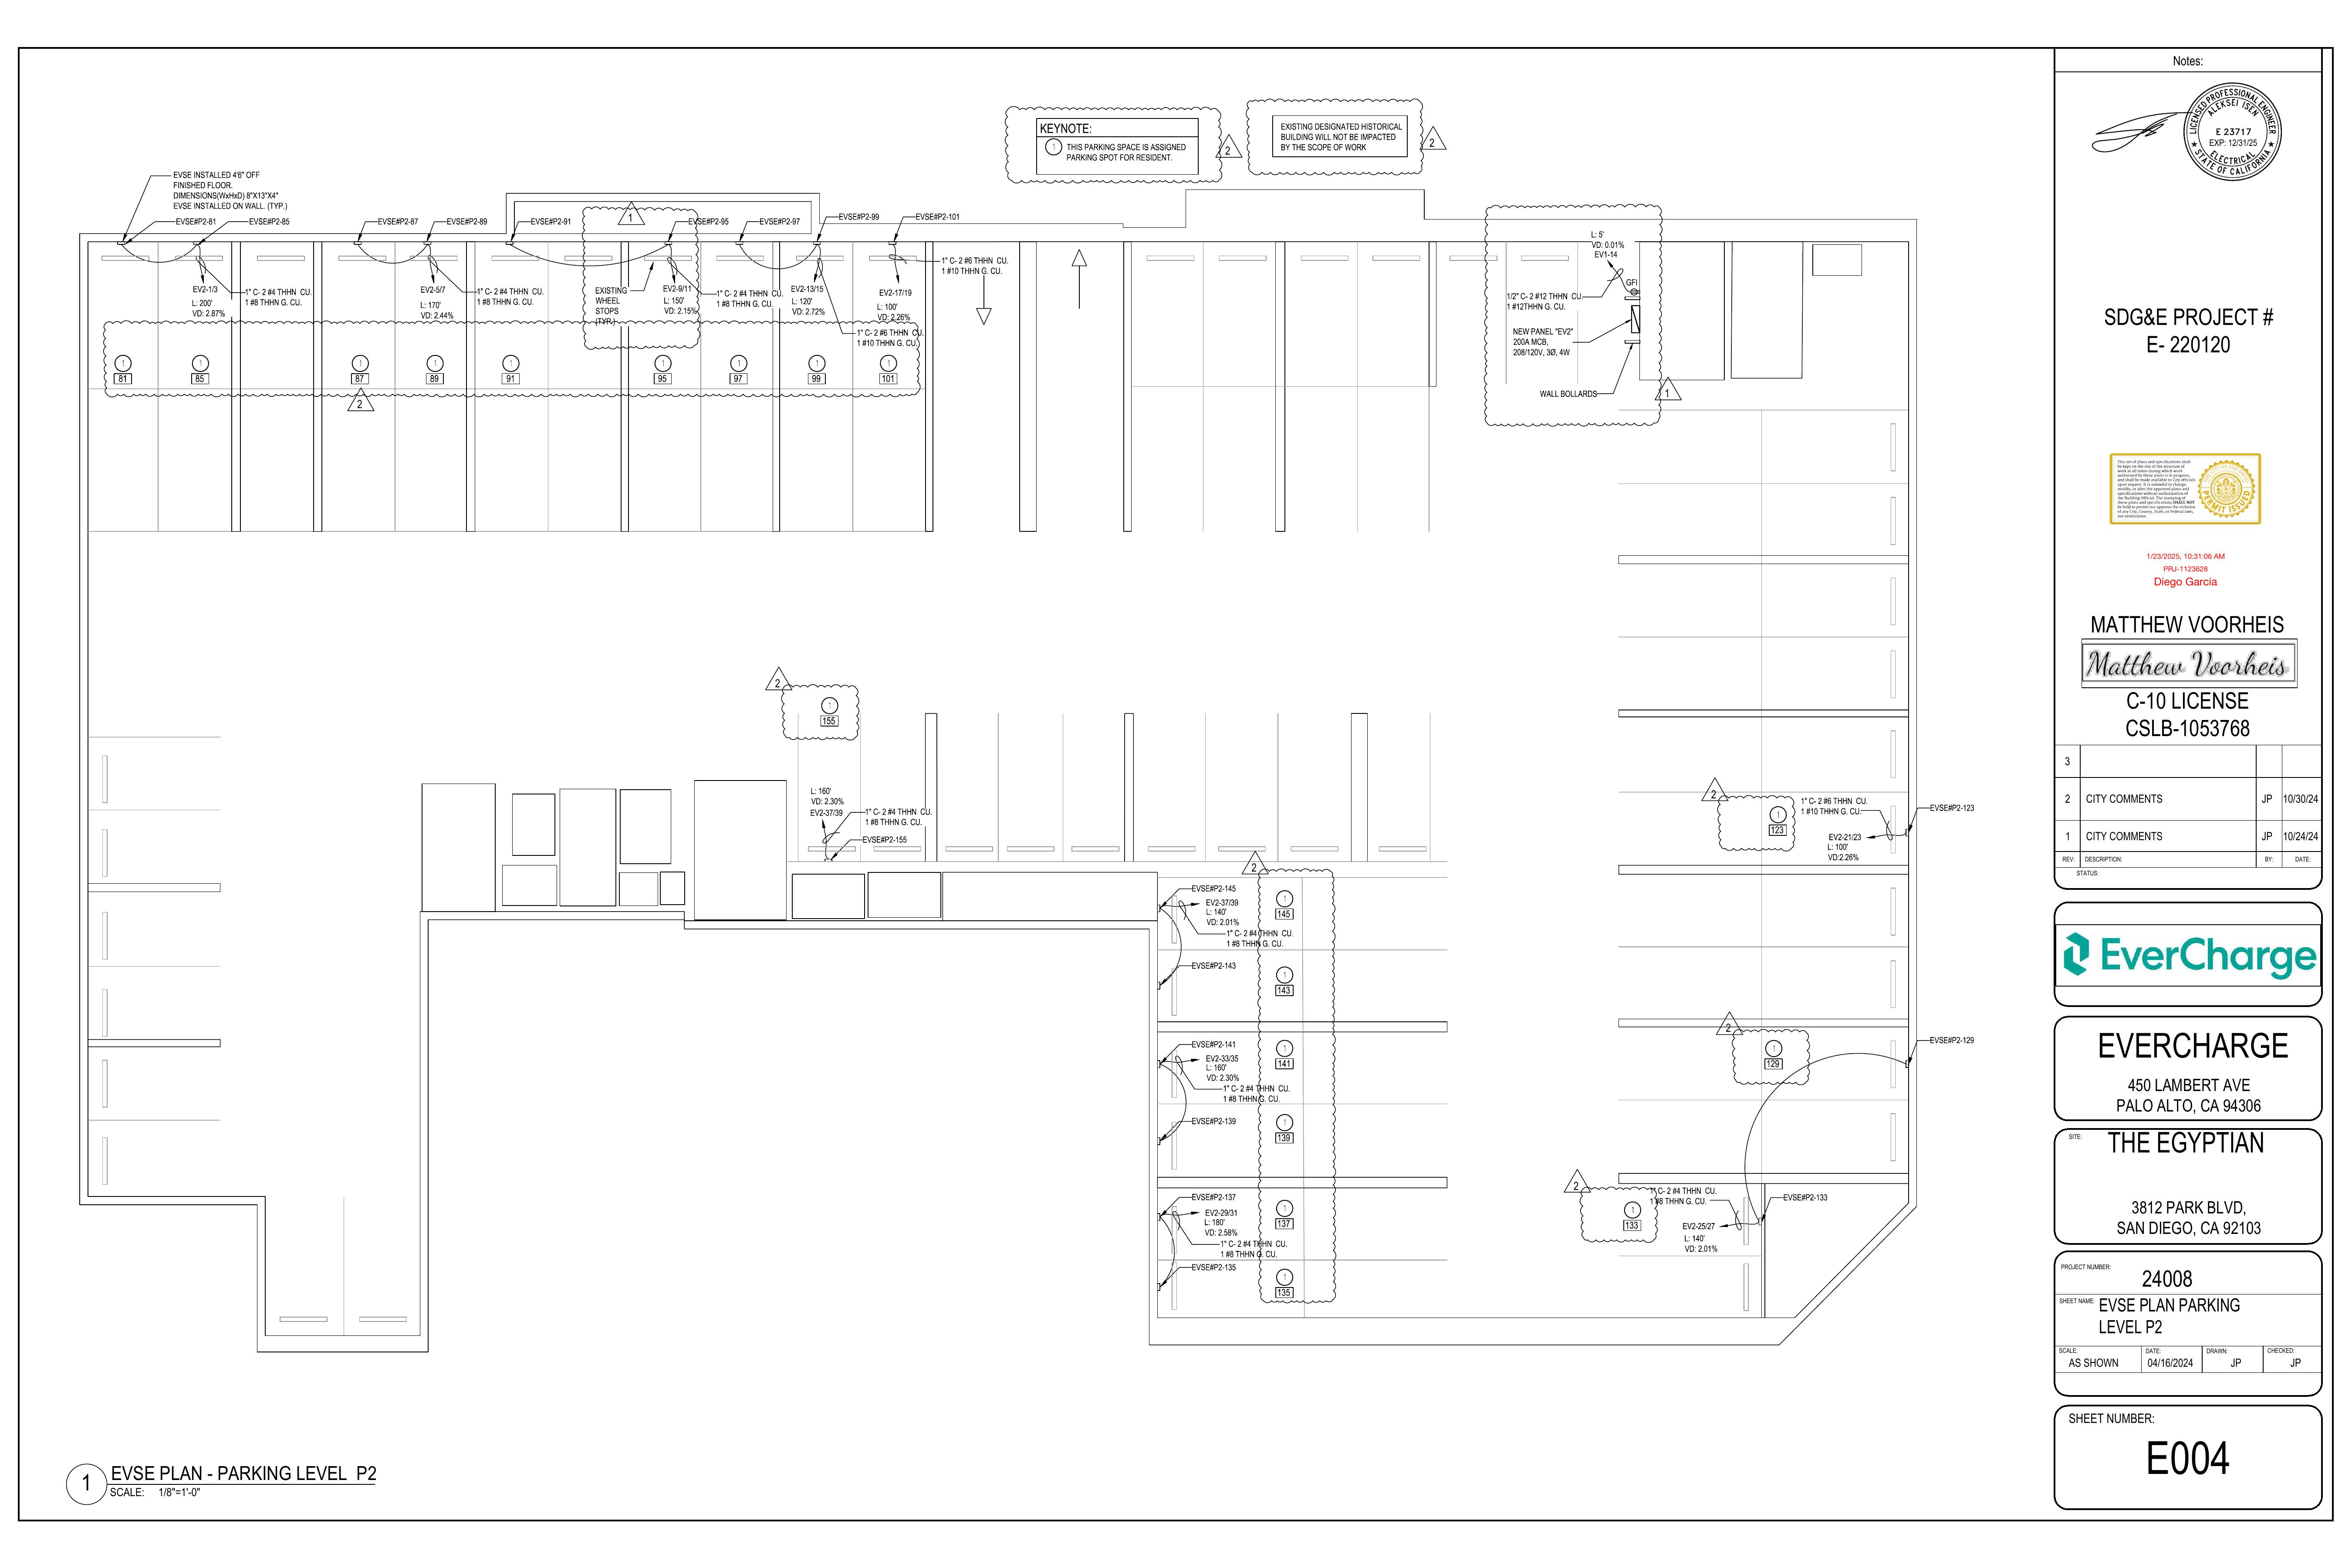EVSE: (184, 241, 241, 299), (482, 241, 540, 299)
GFI: (1160, 701, 1217, 758)
Panel: (2090, 1402, 2205, 1516)
